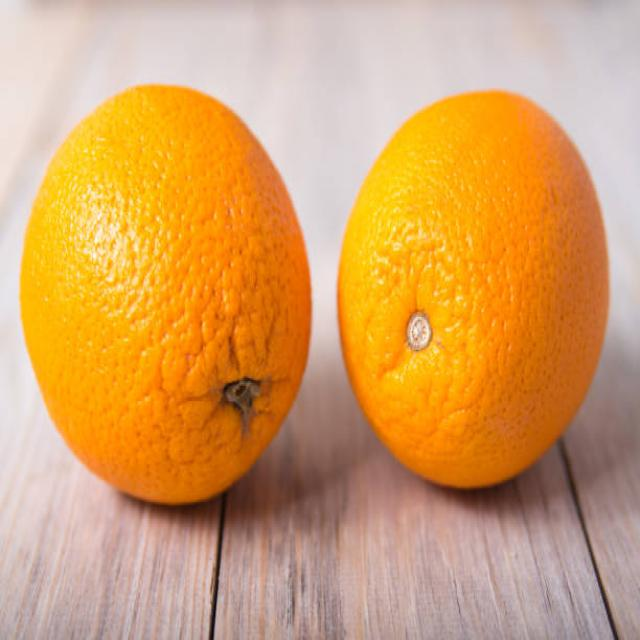Ripe: (16, 77, 313, 512), (334, 82, 614, 491)
